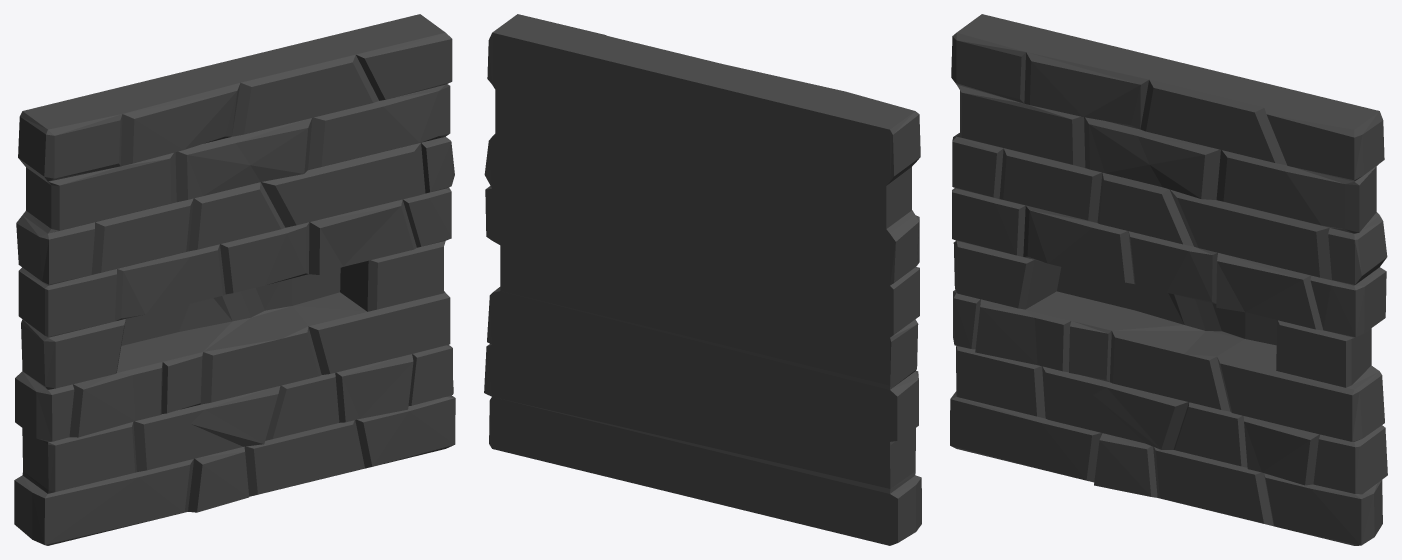
Rendered from Wall_BigHole.fbx.
3 views of the same model, side by side, from view 1: azimuth 30°, elevation 25°; view 2: azimuth 150°, elevation 25°; view 3: azimuth 330°, elevation 25° (orthographic).
Parts seen in each view (by area): view 1: Wall_BigHole; view 2: Wall_BigHole; view 3: Wall_BigHole.
Boxes of the visible parts, x1=… form: Wall_BigHole: x1=14, y1=14, x2=455, y2=545; Wall_BigHole: x1=484, y1=14, x2=921, y2=545; Wall_BigHole: x1=950, y1=14, x2=1387, y2=545.
Bounding box in the file's own units: 838 × 800 × 110.
Materials: 1 (1 with a texture image).
